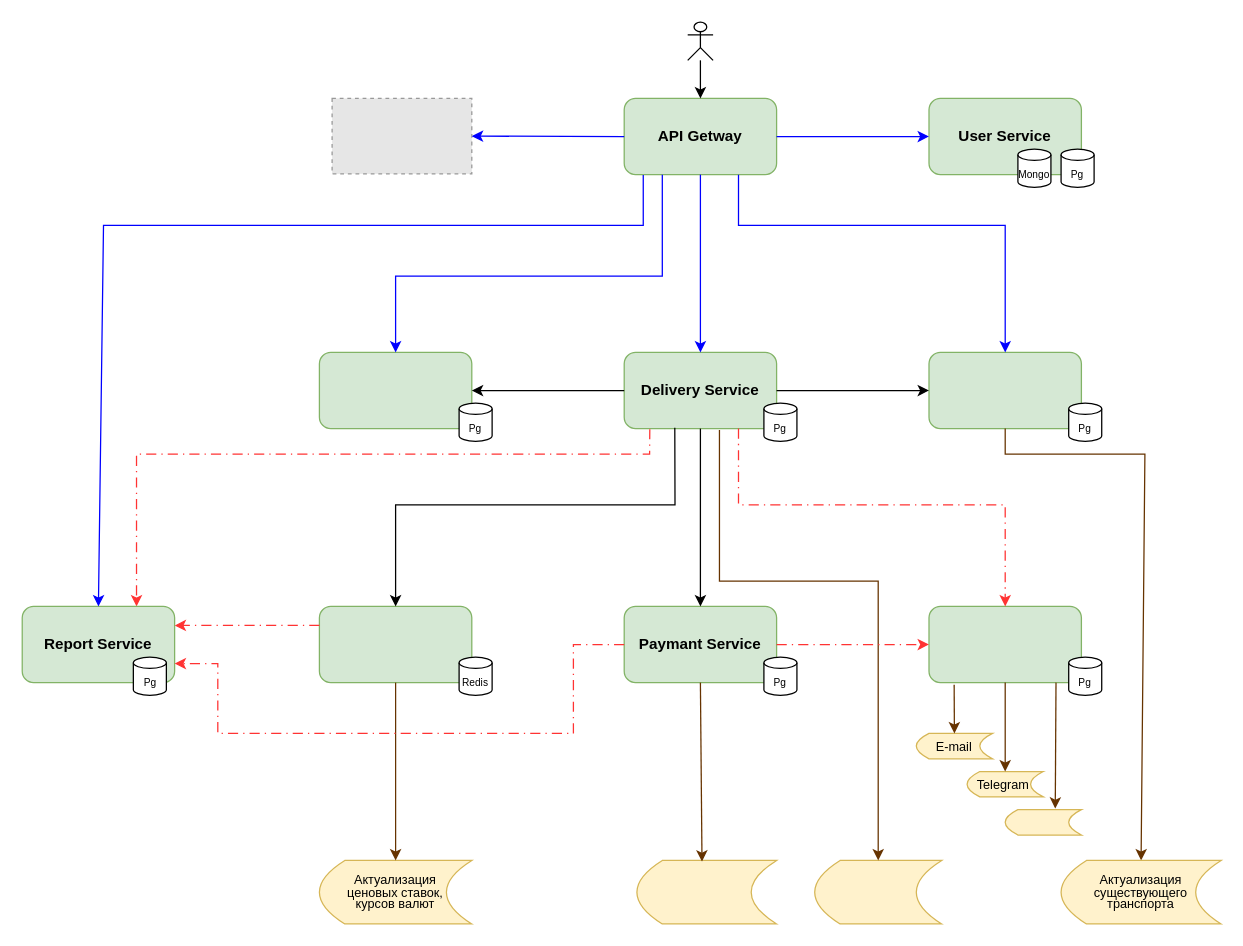
Some shapes in this 1243 by 946 pixel diagram are drawn without their labels. Grey dashed boxes stand in for pictures. The centre of each missing label's shape, as x and y in pixels:
Cargo Service: [395,390]
Cost Calculation Service: [395,644]
Notification Service: [1004,644]
SMS: [1042,821]
Transport Service: [1004,390]
User: [699,40]
Банковская система проведения платежей: [706,891]
Обновление местоположения и статуса груза: [877,891]
